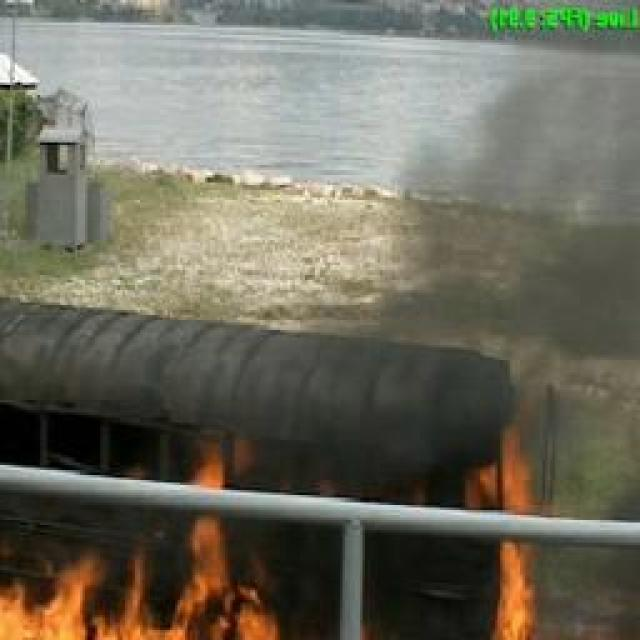Fire: (0, 545, 286, 640), (443, 429, 548, 640), (171, 433, 259, 483)
